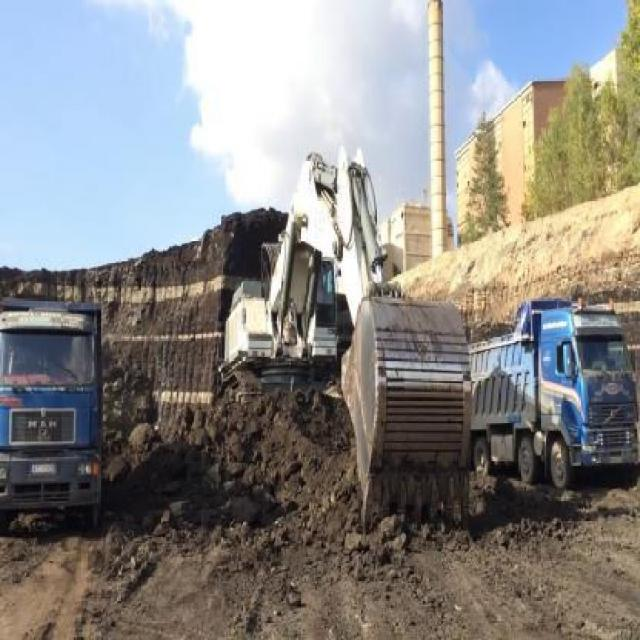Dump Truck: (469, 300, 637, 509), (1, 285, 102, 520)
Excavator: (216, 137, 469, 512)
